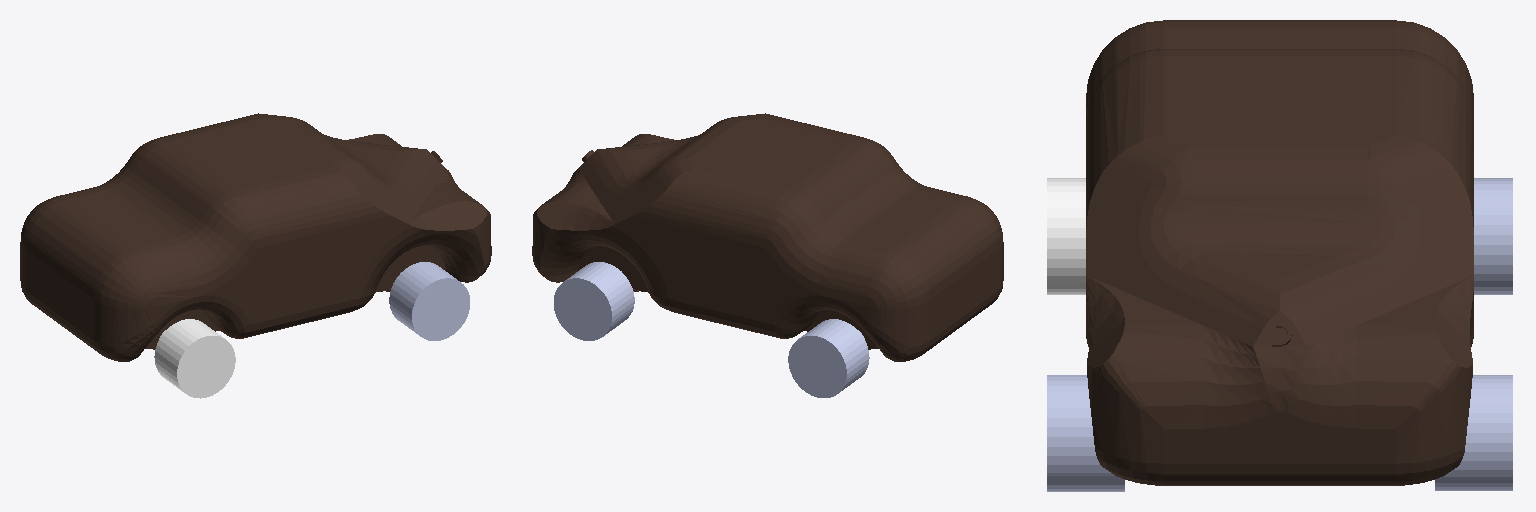
robot.urdf — car_urdf:
<?xml version="1.0" encoding="utf-8"?>
<!-- This URDF was automatically created by SolidWorks to URDF Exporter! Originally created by [author] ([email redacted]) 
     Commit Version: 1.6.0-4-g7f85cfe  Build Version: 1.6.7995.38578
     For more information, please see http://wiki.ros.org/sw_urdf_exporter -->
<robot
  name="car_urdf">
  <link
    name="base_link">
    <inertial>
      <origin
        xyz="0.00267802938233369 -8.36143291826907E-08 0.0290503422675615"
        rpy="0 0 0" />
      <mass
        value="7.27297177380424" />
      <inertia
        ixx="0.00718750082613249"
        ixy="2.93108378933248E-08"
        ixz="0.000183481880866288"
        iyy="0.0213063434769695"
        iyz="3.17408145829774E-09"
        izz="0.024330713862357" />
    </inertial>
    <visual>
      <origin
        xyz="0 0 0"
        rpy="0 0 0" />
      <geometry>
        <mesh
          filename="package://car_urdf/meshes/base_link.STL" />
      </geometry>
      <material
        name="">
        <color
          rgba="0.317647058823529 0.247058823529412 0.207843137254902 1" />
      </material>
    </visual>
    <collision>
      <origin
        xyz="0 0 0"
        rpy="0 0 0" />
      <geometry>
        <mesh
          filename="package://car_urdf/meshes/base_link.STL" />
      </geometry>
    </collision>
  </link>
  <link
    name="fl_pin">
    <inertial>
      <origin
        xyz="0.065223 0.042572 -7.9737E-10"
        rpy="0 0 0" />
      <mass
        value="0.0023308" />
      <inertia
        ixx="1.4645E-07"
        ixy="-6.1831E-17"
        ixz="9.8947E-15"
        iyy="1.4774E-07"
        iyz="-3.4888E-15"
        izz="9.4918E-08" />
    </inertial>
    <visual>
      <origin
        xyz="0 0 0"
        rpy="0 0 0" />
      <geometry>
        <mesh
          filename="package://car_urdf/meshes/fl_pin.STL" />
      </geometry>
      <material
        name="">
        <color
          rgba="0.79216 0.81961 0.93333 1" />
      </material>
    </visual>
    <collision>
      <origin
        xyz="0 0 0"
        rpy="0 0 0" />
      <geometry>
        <mesh
          filename="package://car_urdf/meshes/fl_pin.STL" />
      </geometry>
    </collision>
  </link>
  <joint
    name="fl_pin_j"
    type="revolute">
    <origin
      xyz="0 0 0"
      rpy="0 0 0" />
    <parent
      link="base_link" />
    <child
      link="fl_pin" />
    <axis
      xyz="0 0 -1" />
    <limit
      lower="-0.6"
      upper="0.6"
      effort="0"
      velocity="0" />
  </joint>
  <link
    name="fl_wheel">
    <inertial>
      <origin
        xyz="0.065223 0.051429 0"
        rpy="0 0 0" />
      <mass
        value="0.010996" />
      <inertia
        ixx="1.0608E-06"
        ixy="1.8815E-23"
        ixz="-1.1484E-22"
        iyy="1.4334E-06"
        iyz="-3.3728E-24"
        izz="1.0608E-06" />
    </inertial>
    <visual>
      <origin
        xyz="0 0 0"
        rpy="0 0 0" />
      <geometry>
        <mesh
          filename="package://car_urdf/meshes/fl_wheel.STL" />
      </geometry>
      <material
        name="">
        <color
          rgba="0.79216 0.81961 0.93333 1" />
      </material>
    </visual>
    <collision>
      <origin
        xyz="0 0 0"
        rpy="0 0 0" />
      <geometry>
        <mesh
          filename="package://car_urdf/meshes/fl_wheel.STL" />
      </geometry>
    </collision>
  </link>
  <joint
    name="fl_wheeel_j"
    type="continuous">
    <origin
      xyz="0 0 0"
      rpy="0 0 0" />
    <parent
      link="fl_pin" />
    <child
      link="fl_wheel" />
    <axis
      xyz="0 1 0" />
    <limit
      lower="0"
      upper="0"
      effort="0"
      velocity="0" />
  </joint>
  <link
    name="fr_pin">
    <inertial>
      <origin
        xyz="0.065223 -0.042572 7.9737E-10"
        rpy="0 0 0" />
      <mass
        value="0.0023308" />
      <inertia
        ixx="1.4645E-07"
        ixy="6.1831E-17"
        ixz="-9.8947E-15"
        iyy="1.4774E-07"
        iyz="-3.4888E-15"
        izz="9.4918E-08" />
    </inertial>
    <visual>
      <origin
        xyz="0 0 0"
        rpy="0 0 0" />
      <geometry>
        <mesh
          filename="package://car_urdf/meshes/fr_pin.STL" />
      </geometry>
      <material
        name="">
        <color
          rgba="0.79216 0.81961 0.93333 1" />
      </material>
    </visual>
    <collision>
      <origin
        xyz="0 0 0"
        rpy="0 0 0" />
      <geometry>
        <mesh
          filename="package://car_urdf/meshes/fr_pin.STL" />
      </geometry>
    </collision>
  </link>
  <joint
    name="fr_pin_j"
    type="revolute">
    <origin
      xyz="0 0 0"
      rpy="0 0 0" />
    <parent
      link="base_link" />
    <child
      link="fr_pin" />
    <axis
      xyz="0 0 -1" />
    <limit
      lower="-0.6"
      upper="0.6"
      effort="0"
      velocity="0" />
  </joint>
  <link
    name="fr_wheel">
    <inertial>
      <origin
        xyz="0.065223 -0.051429 0"
        rpy="0 0 0" />
      <mass
        value="0.010996" />
      <inertia
        ixx="1.0608E-06"
        ixy="9.358E-23"
        ixz="1.3852E-22"
        iyy="1.4334E-06"
        iyz="-1.2565E-23"
        izz="1.0608E-06" />
    </inertial>
    <visual>
      <origin
        xyz="0 0 0"
        rpy="0 0 0" />
      <geometry>
        <mesh
          filename="package://car_urdf/meshes/fr_wheel.STL" />
      </geometry>
      <material
        name="">
        <color
          rgba="0.79216 0.81961 0.93333 1" />
      </material>
    </visual>
    <collision>
      <origin
        xyz="0 0 0"
        rpy="0 0 0" />
      <geometry>
        <mesh
          filename="package://car_urdf/meshes/fr_wheel.STL" />
      </geometry>
    </collision>
  </link>
  <joint
    name="fr_wheel_j"
    type="continuous">
    <origin
      xyz="0 0 0"
      rpy="0 0 0" />
    <parent
      link="fr_pin" />
    <child
      link="fr_wheel" />
    <axis
      xyz="0 -1 0" />
  </joint>
  <link
    name="rl_wheel">
    <inertial>
      <origin
        xyz="-0.054777 0.048333 -6.9389E-17"
        rpy="0 0 0" />
      <mass
        value="0.015904" />
      <inertia
        ixx="1.6595E-06"
        ixy="-4.2486E-20"
        ixz="-5.2716E-23"
        iyy="1.6401E-06"
        iyz="-1.4995E-20"
        izz="1.6595E-06" />
    </inertial>
    <visual>
      <origin
        xyz="0 0 0"
        rpy="0 0 0" />
      <geometry>
        <mesh
          filename="package://car_urdf/meshes/rl_wheel.STL" />
      </geometry>
      <material
        name="">
        <color
          rgba="0.79216 0.81961 0.93333 1" />
      </material>
    </visual>
    <collision>
      <origin
        xyz="0 0 0"
        rpy="0 0 0" />
      <geometry>
        <mesh
          filename="package://car_urdf/meshes/rl_wheel.STL" />
      </geometry>
    </collision>
  </link>
  <joint
    name="rl_wheel_j"
    type="continuous">
    <origin
      xyz="0 0 0"
      rpy="0 0 0" />
    <parent
      link="base_link" />
    <child
      link="rl_wheel" />
    <axis
      xyz="0 -1 0" />
  </joint>
  <link
    name="rr_wheel">
    <inertial>
      <origin
        xyz="-0.054777 -0.048333 -6.9389E-17"
        rpy="0 0 0" />
      <mass
        value="0.015904" />
      <inertia
        ixx="0"
        ixy="0"
        ixz="0"
        iyy="0"
        iyz="0"
        izz="0" />
    </inertial>
    <visual>
      <origin
        xyz="0 0 0"
        rpy="0 0 0" />
      <geometry>
        <mesh
          filename="package://car_urdf/meshes/rr_wheel.STL" />
      </geometry>
      <material
        name="">
        <color
          rgba="1 1 1 1" />
      </material>
    </visual>
    <collision>
      <origin
        xyz="0 0 0"
        rpy="0 0 0" />
      <geometry>
        <mesh
          filename="package://car_urdf/meshes/rr_wheel.STL" />
      </geometry>
    </collision>
  </link>
  <joint
    name="rr_wheel_j"
    type="continuous">
    <origin
      xyz="0 0 0"
      rpy="0 0 0" />
    <parent
      link="base_link" />
    <child
      link="rr_wheel" />
    <axis
      xyz="0 1 0" />
  </joint>
</robot>

--- What the picture shows (computed from the rendered views, not written in the file) ---
Views: 3 orthographic renders of the robot side by side, from view 1: azimuth 30°, elevation 25°; view 2: azimuth 150°, elevation 25°; view 3: azimuth 270°, elevation 25°.
Model car_urdf with 7 links and 6 joints (2 revolute, 4 continuous), rooted at base_link, posed every joint at zero.
Links seen in each view (by area): view 1: base_link, rr_wheel, fr_wheel; view 2: base_link, rl_wheel, fl_wheel; view 3: base_link, fr_wheel, fl_wheel, rl_wheel, rr_wheel.
Link boxes in pixels (left/top/right/bottom): base_link: left=20, top=113, right=491, bottom=361; rr_wheel: left=154, top=319, right=235, bottom=398; fr_wheel: left=389, top=262, right=469, bottom=340; base_link: left=532, top=113, right=1003, bottom=361; rl_wheel: left=788, top=319, right=869, bottom=397; fl_wheel: left=554, top=262, right=634, bottom=340; base_link: left=1086, top=20, right=1473, bottom=485; fr_wheel: left=1047, top=375, right=1124, bottom=491; fl_wheel: left=1435, top=375, right=1512, bottom=490; rl_wheel: left=1474, top=178, right=1512, bottom=294; rr_wheel: left=1047, top=178, right=1085, bottom=294.
Size in the robot's own frame: 0.2 by 0.12 by 0.0815 metres.
7 mesh visuals loaded from 7 distinct referenced files (7 binary STL).